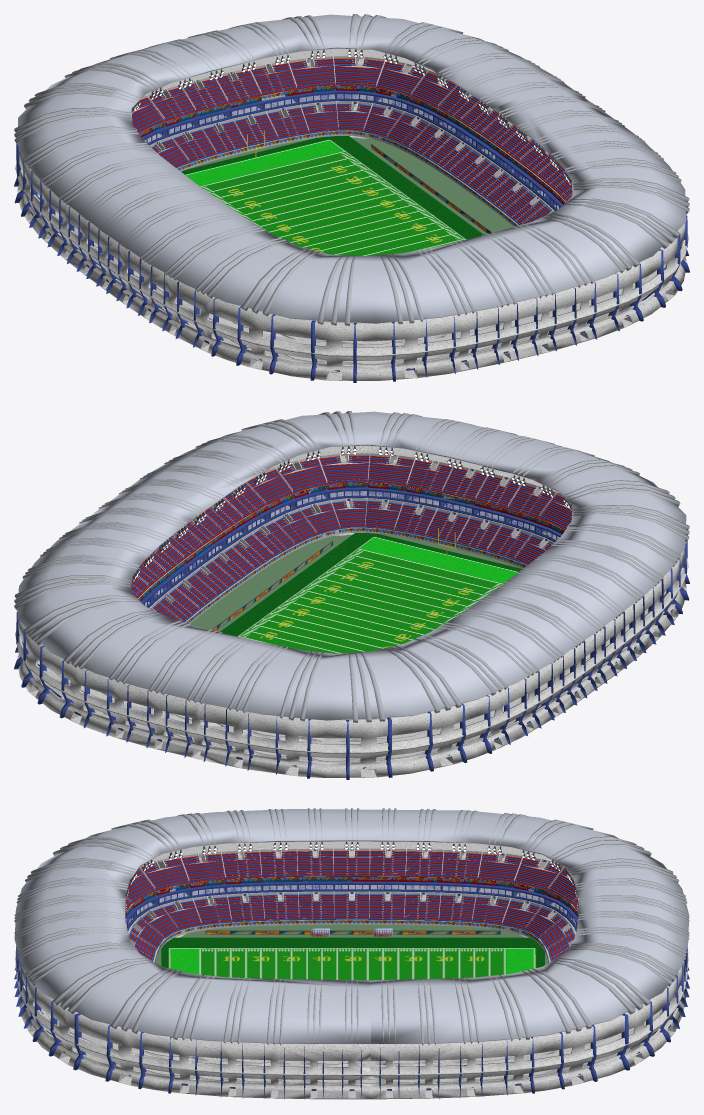
File: stadium.glb
3 renders of one model, top to bottom at view 1: azimuth 30°, elevation 25°; view 2: azimuth 150°, elevation 25°; view 3: azimuth 270°, elevation 25°, orthographic. The views are drawn at different scales.
Parts seen in each view (by area): view 1: stadium; view 2: stadium; view 3: stadium.
Boxes of the visible parts, left/top/right/bottom form: stadium: left=14, top=14, right=689, bottom=382; stadium: left=14, top=411, right=689, bottom=779; stadium: left=14, top=808, right=689, bottom=1099.
Size of the model in its own units: 166 by 26.06 by 203.
19 materials, 9 textured.
